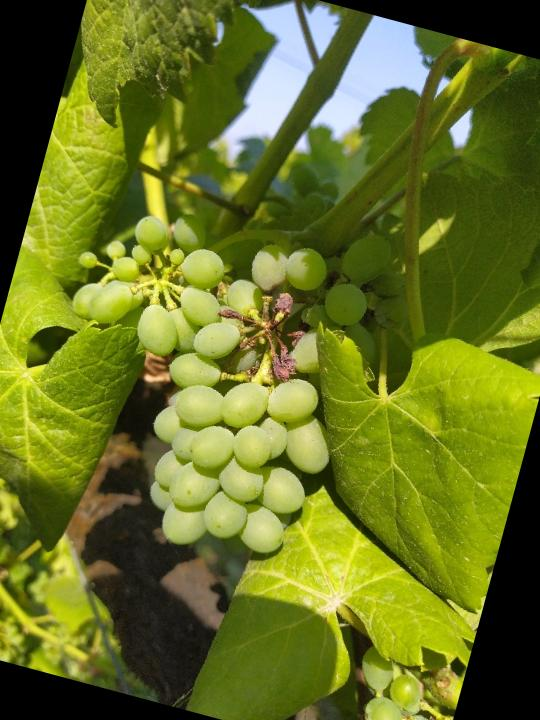grape: (4, 153, 431, 592), (332, 633, 467, 720)
